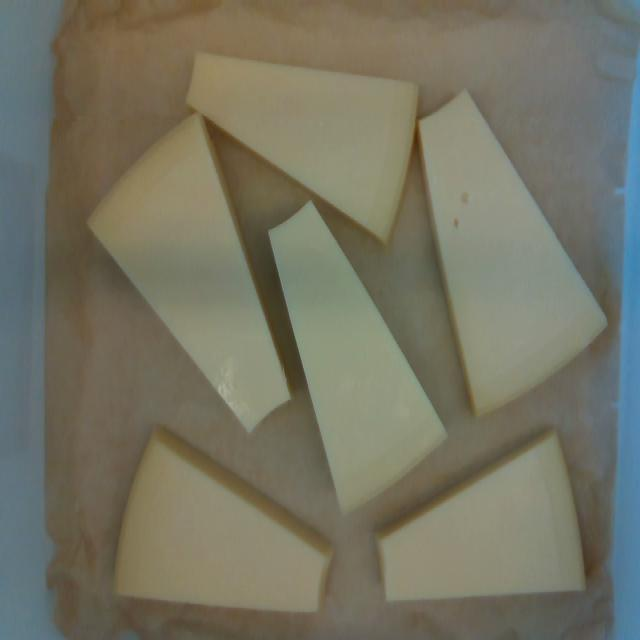cheese: (90, 116, 288, 428), (420, 93, 605, 415), (270, 203, 445, 511), (190, 56, 417, 240), (116, 435, 328, 611), (380, 435, 584, 600)
